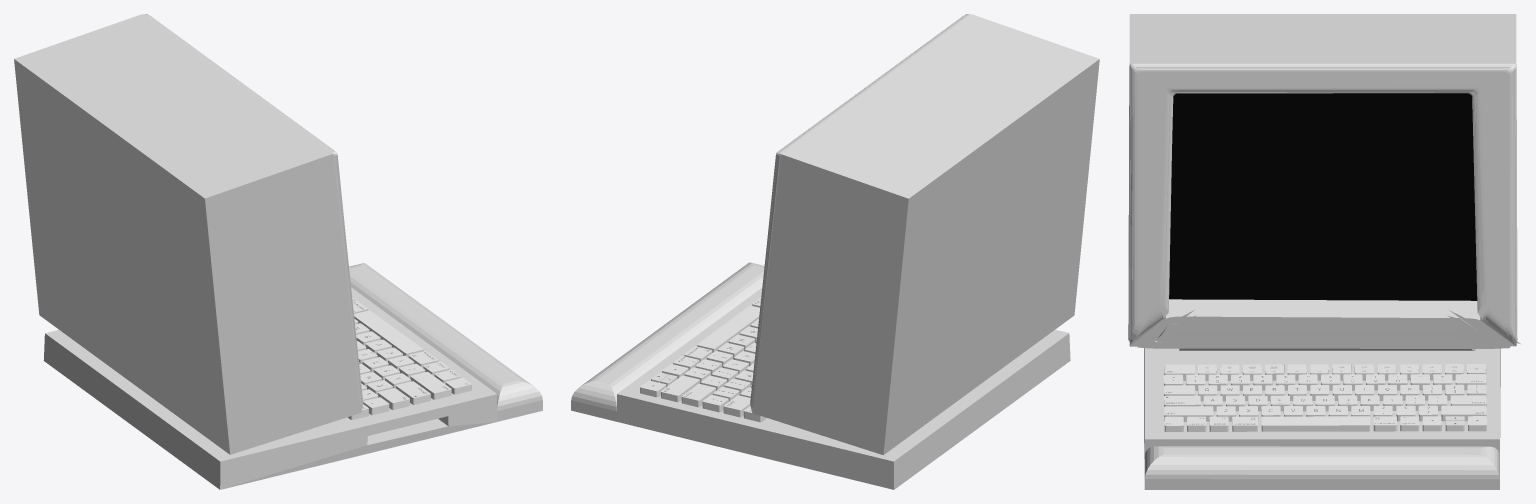
Rendered from computer.glb.
3 renders of one model, left to right at view 1: azimuth 30°, elevation 25°; view 2: azimuth 150°, elevation 25°; view 3: azimuth 270°, elevation 25°, orthographic.
Visible parts, largest first — view 1: Cube.002, Cube.001, KeyboardImac; view 2: Cube.002, Cube.001, KeyboardImac; view 3: Cube.002, Cube.001, KeyboardImac, Cube.
Boxes of the visible parts, <box> form: Cube.002: <box>14,14,363,454</box>; Cube.001: <box>43,263,542,489</box>; KeyboardImac: <box>348,298,471,419</box>; Cube.002: <box>750,14,1099,455</box>; Cube.001: <box>571,262,1070,489</box>; KeyboardImac: <box>640,297,766,422</box>; Cube.002: <box>1128,14,1520,348</box>; Cube.001: <box>1144,348,1500,489</box>; KeyboardImac: <box>1164,364,1486,431</box>; Cube: <box>1179,348,1475,350</box>.
Bounding box in the file's own units: 8.37 × 7.31 × 8.15.
Materials: 9 (1 with a texture image).
